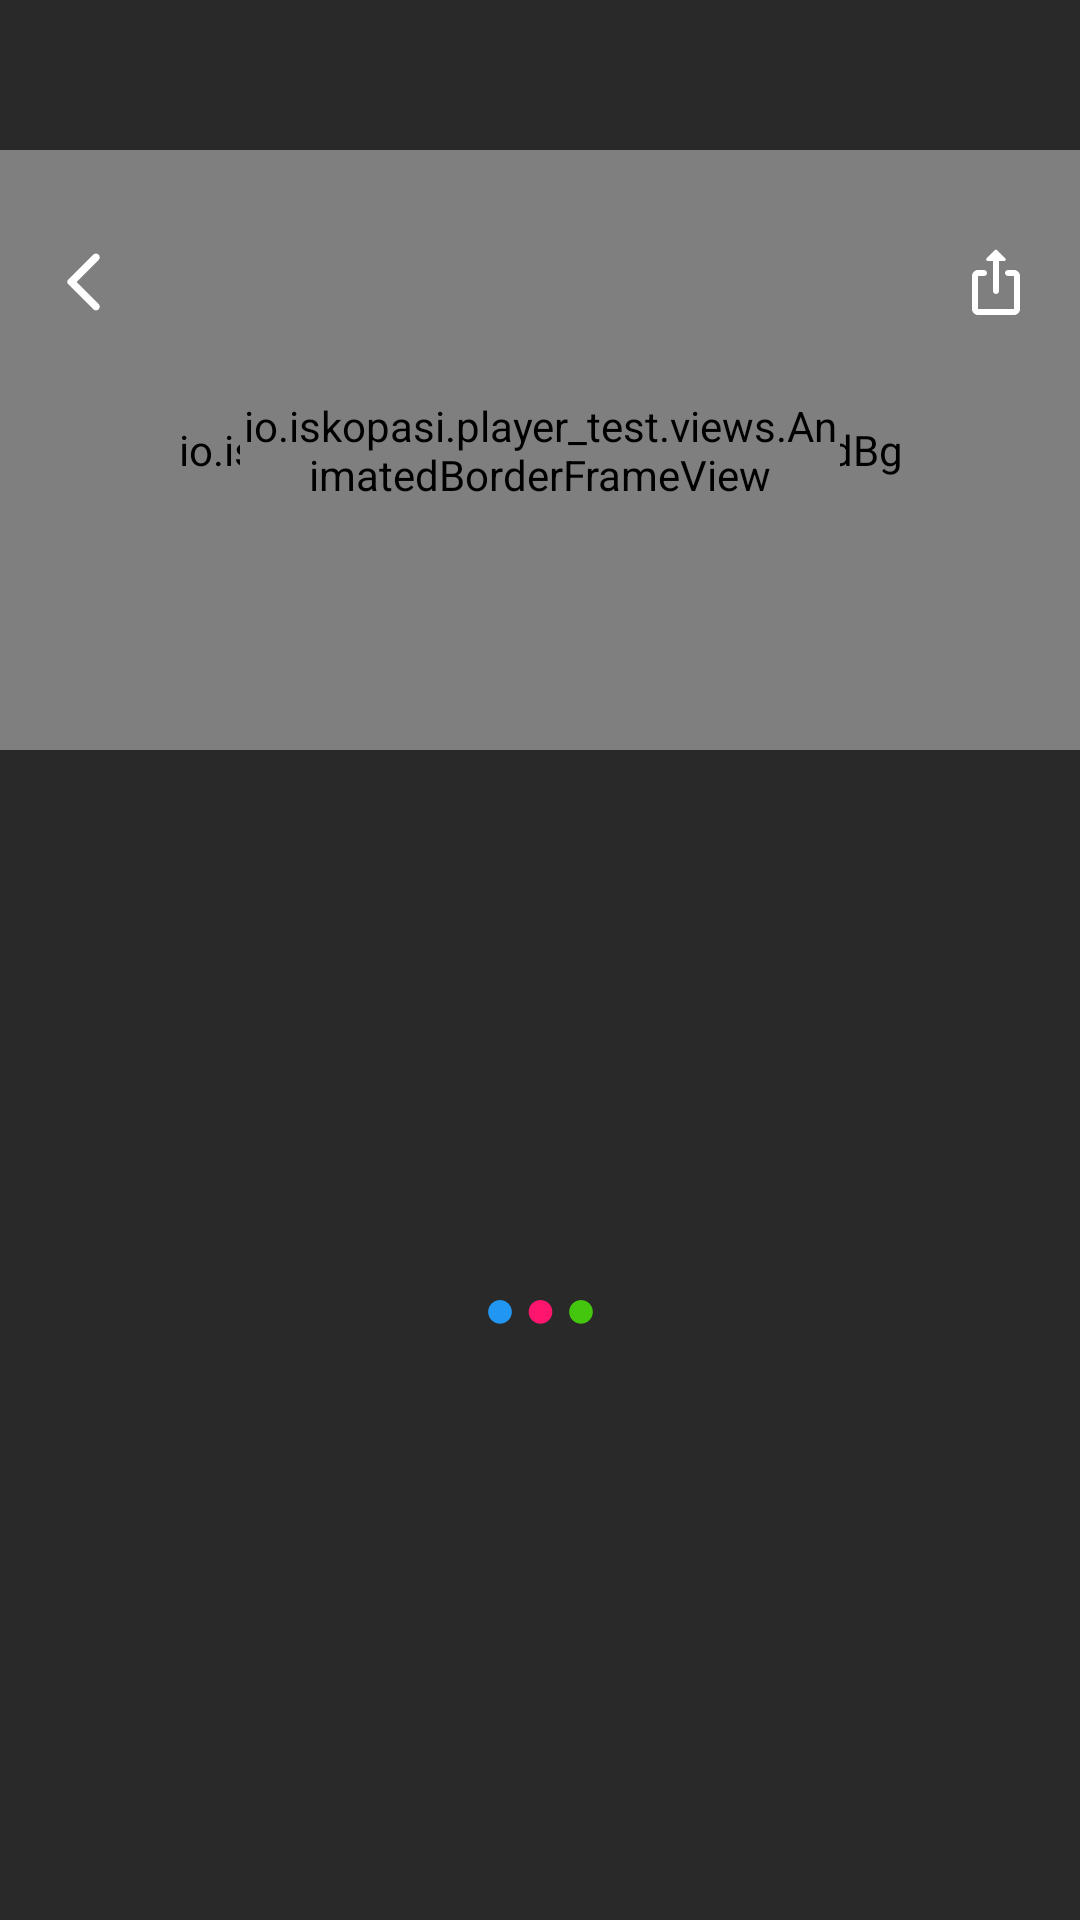

Where to tap for icons on this 1080px×1920px app screen, as (x,y):
arrow back: (83,282)
share: (996,282)
